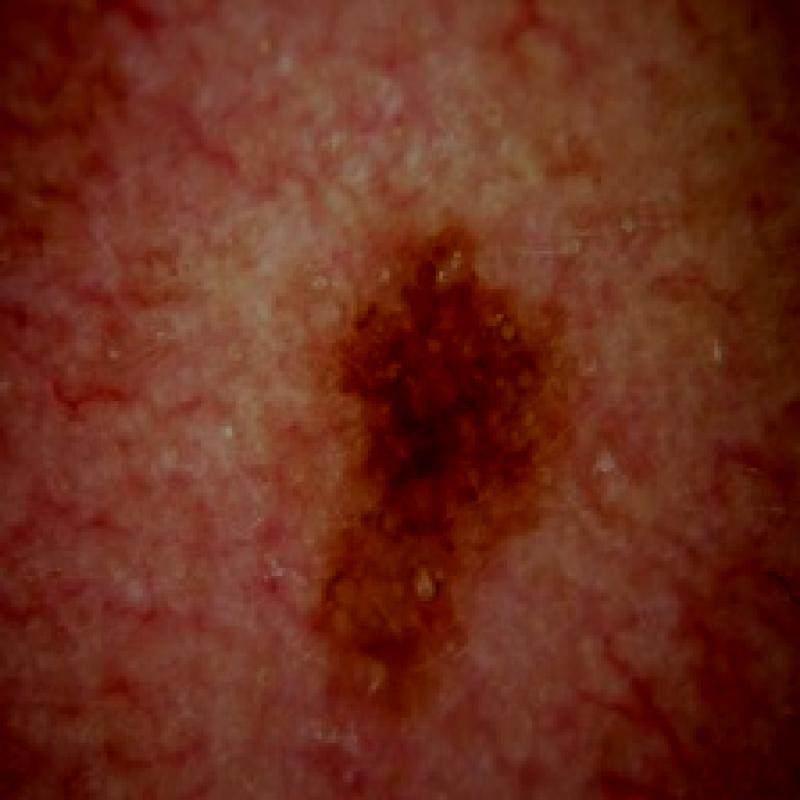malignant: (278, 221, 611, 692)
